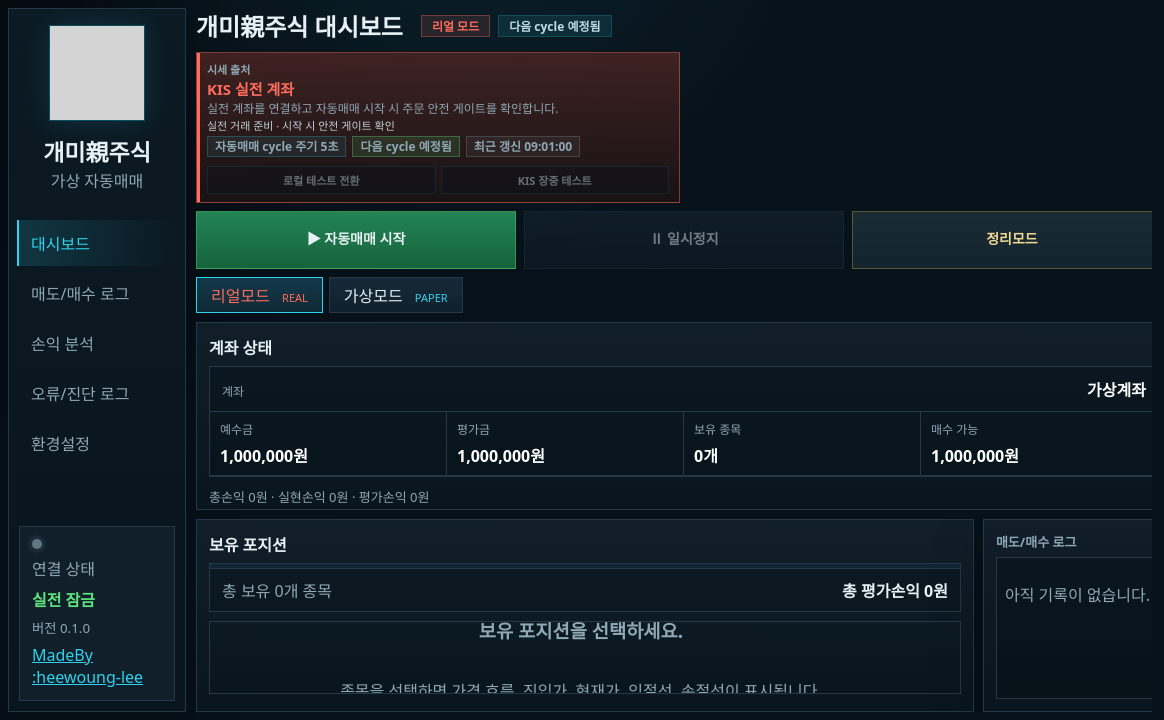
Test case: Electron dashboard app shell › refreshes the live account when the selected real mode button is clicked
Step 1. Click the button "리얼모드 REAL" → point(259, 295), box [196, 277, 323, 313]
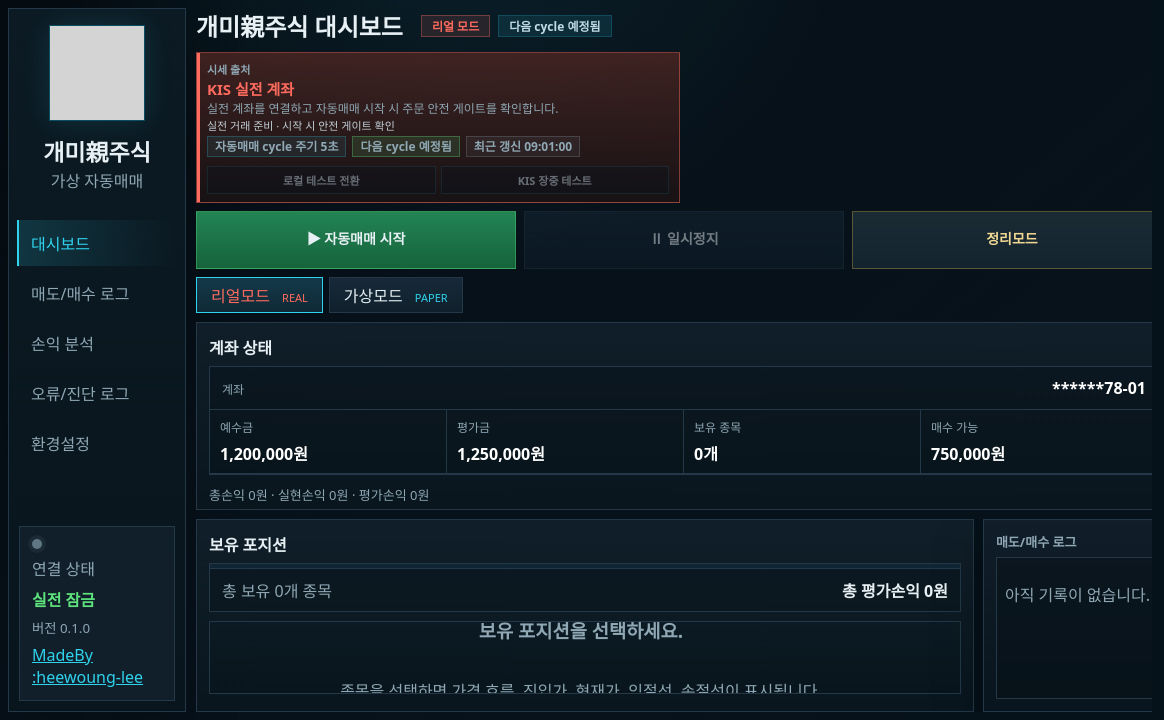
expect the text "******78-01" is shown: met, box [1052, 377, 1146, 399]
expect the text "1,200,000원" is shown: met, box [220, 443, 308, 465]
expect the text "1,250,000원" is shown: met, box [457, 443, 545, 465]
